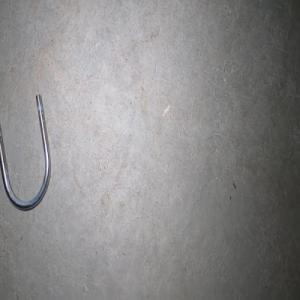ClampPart: (0, 93, 51, 211)
